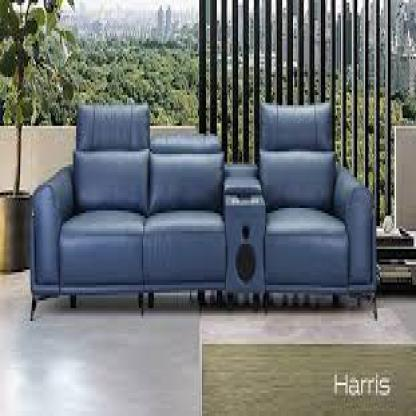sofa: (27, 95, 364, 318)
